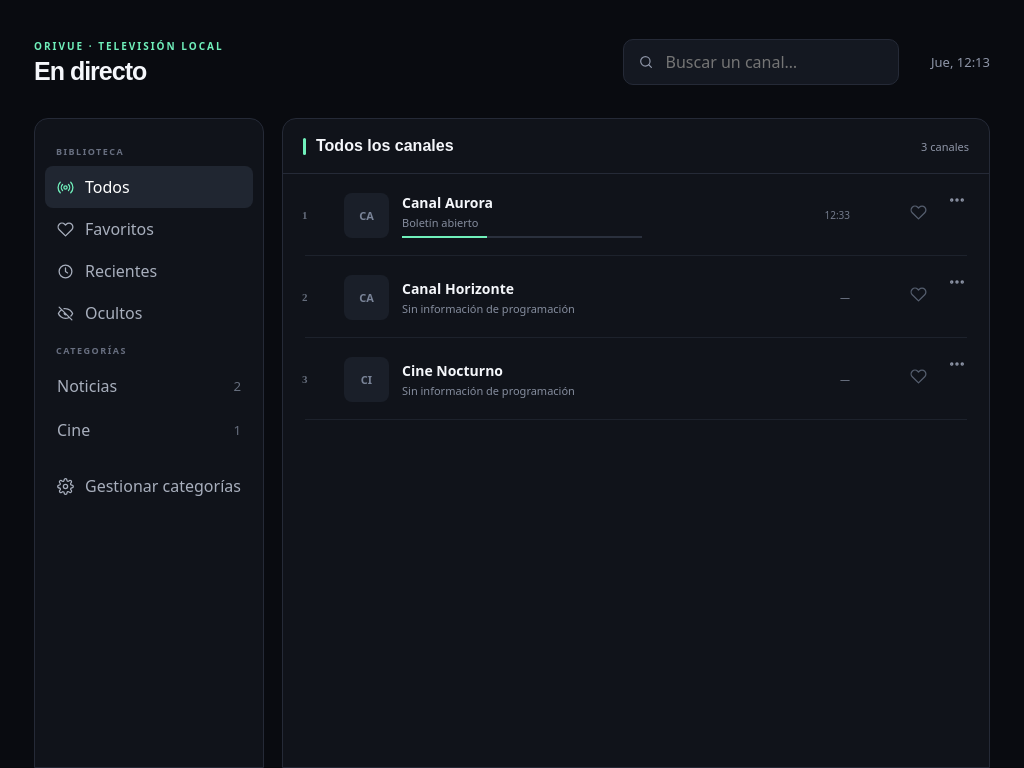
it: BrowsePage › selects a channel for playback and toggles favourites
The image size is (1024, 768).
Click the button with aria-label "Reproducir Canal Aurora": (366, 215) [294,179,901,251]
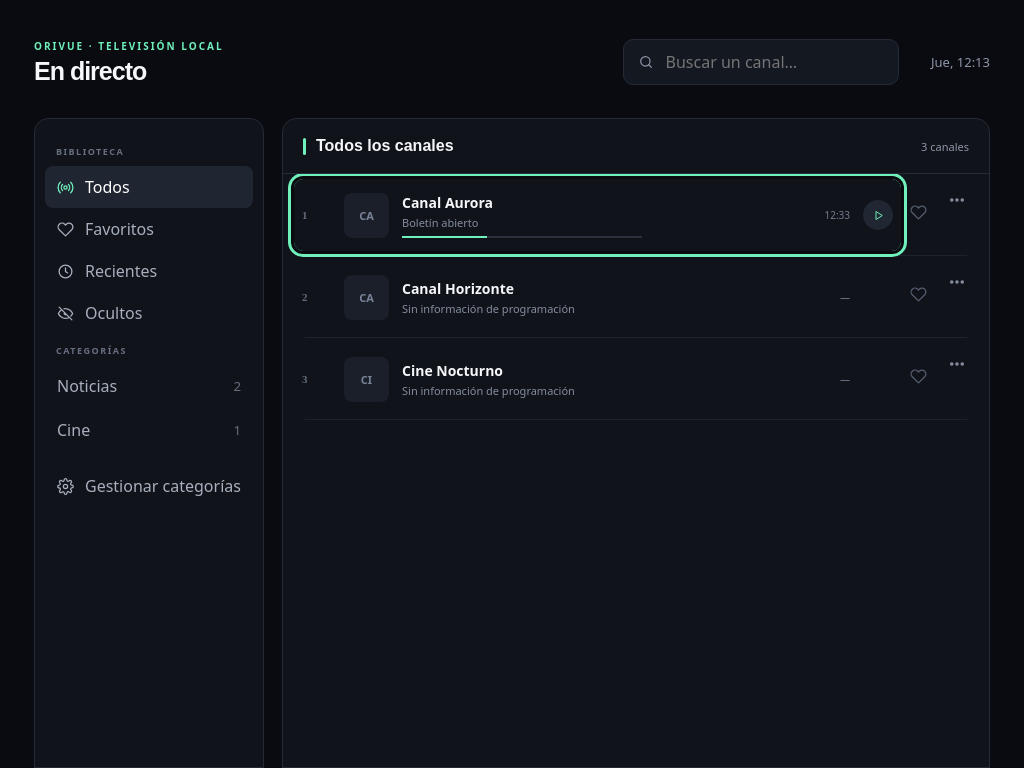
Expected: the text "Canal Aurora" is shown, [402,192,493,212]
Click the button named "Añadir Canal Aurora a favoritos": (918, 215) [901,195,936,235]
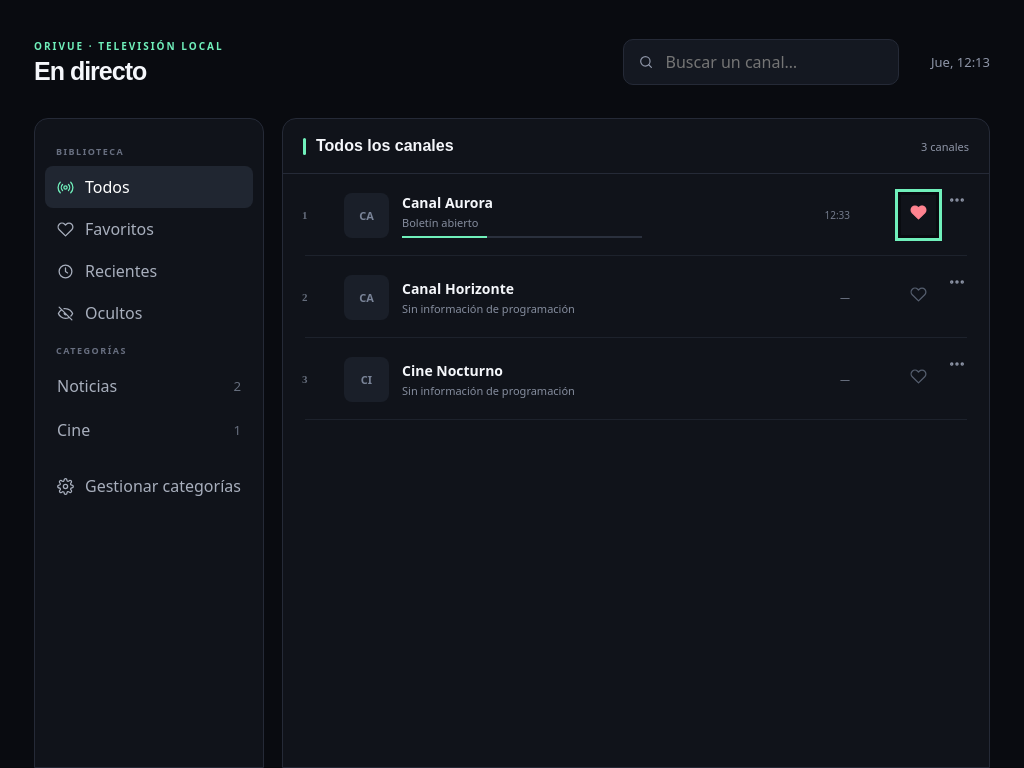
Now the button named "Quitar Canal Aurora de favoritos" is shown, box [901,195,936,235]
